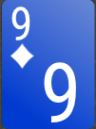Diamond: (10, 44, 34, 69)
